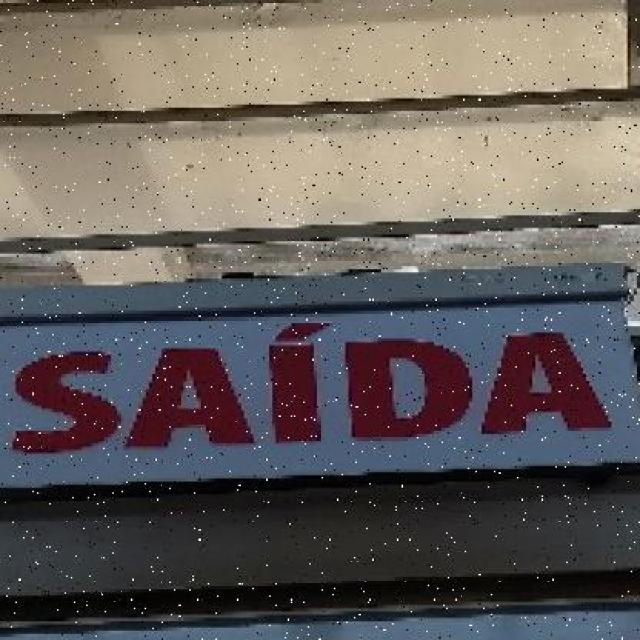emergency_exit: (1, 262, 639, 492)
